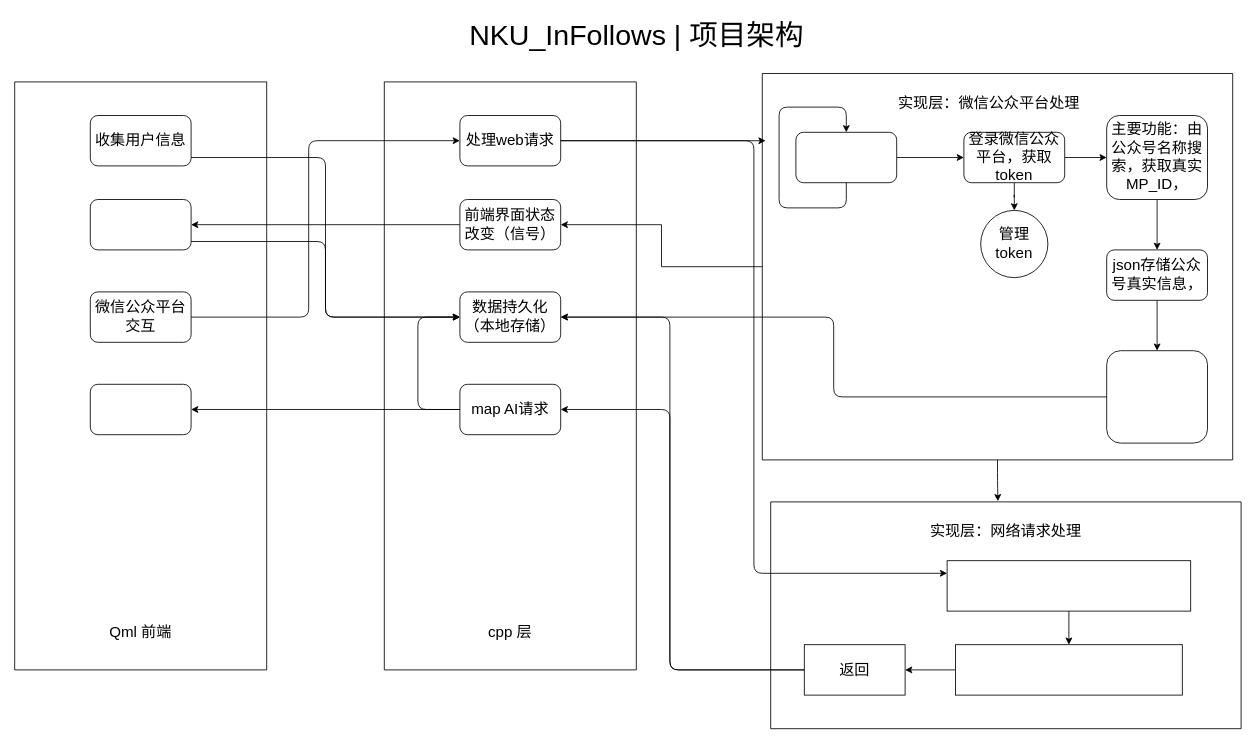
Image size: 1256x743. Some labels were removed from this diagram. The shapes that lost their labels are listed below. From the top down, each one's centre as x and y in pixels, then its label:
At (x=846, y=157): "登录后端 （每次重载token）".
At (x=140, y=224): "配置AI".
At (x=140, y=409): "生成推荐".
At (x=1157, y=396): "获取公众号文章 （具体实现过程略）".
At (x=1068, y=585): "原生Qt的Network请求实现方法".
At (x=1068, y=669): "使用QJsonDocument等解析请求结果".
